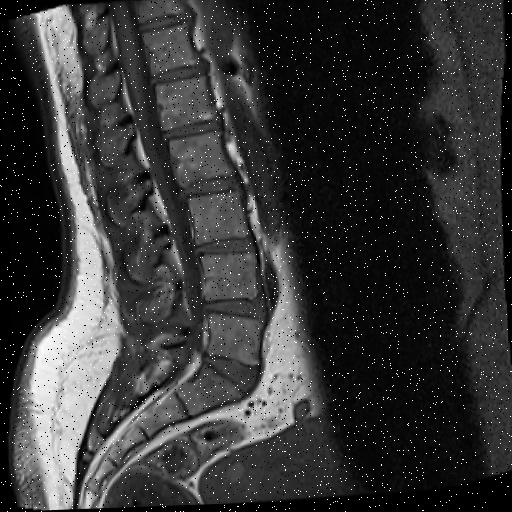L1: (156, 77, 216, 131)
L2: (169, 134, 232, 188)
L3: (190, 193, 247, 245)
L4: (203, 255, 256, 301)
L5: (207, 316, 259, 366)
S1: (178, 364, 240, 416)
